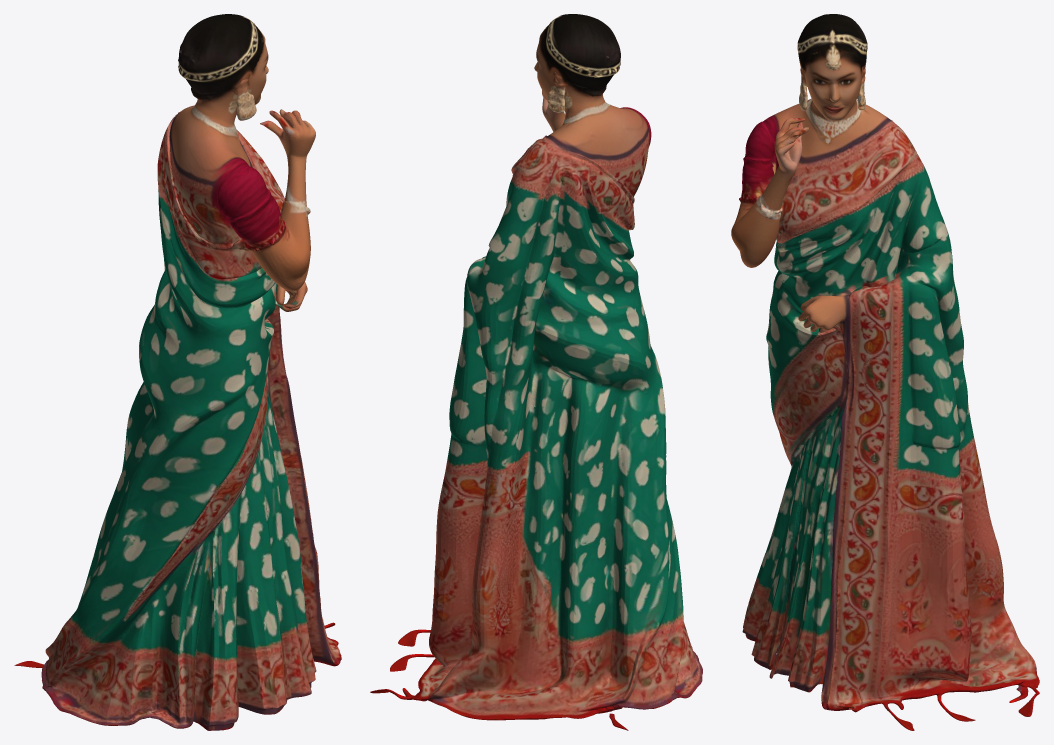
File: banarsiSaree.glb
3 renders of one model, left to right at view 1: azimuth 30°, elevation 25°; view 2: azimuth 150°, elevation 25°; view 3: azimuth 270°, elevation 25°, orthographic. The views are drawn at different scales.
Visible parts, largest first — view 1: tripo_node_2c64523a-b0a3-42fc-92cb-1cfc892862e6; view 2: tripo_node_2c64523a-b0a3-42fc-92cb-1cfc892862e6; view 3: tripo_node_2c64523a-b0a3-42fc-92cb-1cfc892862e6.
Part boxes in pixels (box(x1,y1,x2,y2)): tripo_node_2c64523a-b0a3-42fc-92cb-1cfc892862e6: box(14, 14, 341, 730); tripo_node_2c64523a-b0a3-42fc-92cb-1cfc892862e6: box(370, 14, 702, 730); tripo_node_2c64523a-b0a3-42fc-92cb-1cfc892862e6: box(731, 14, 1039, 730).
Bounding box in the file's own units: 0.4545 × 1 × 0.4344.
Materials: 1 (1 with a texture image).
